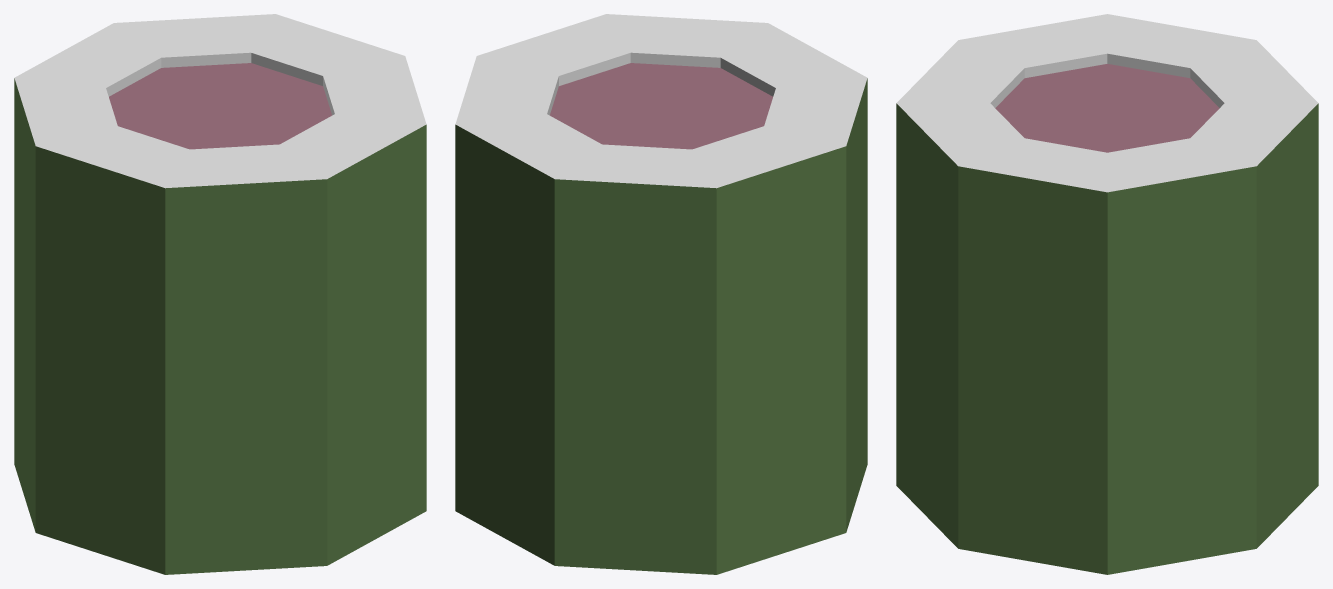
The model's file is SushiRoll1.fbx.
3 views of the same model, side by side, from view 1: azimuth 30°, elevation 25°; view 2: azimuth 150°, elevation 25°; view 3: azimuth 270°, elevation 25° (orthographic).
Visible parts, largest first — view 1: SushiRoll1; view 2: SushiRoll1; view 3: SushiRoll1.
Part boxes in pixels (x1,y1,x2,y2): SushiRoll1: (14, 14, 426, 574); SushiRoll1: (455, 14, 867, 574); SushiRoll1: (896, 14, 1318, 574).
Size of the model in its own units: 7.3 by 7.3 by 7.3.
